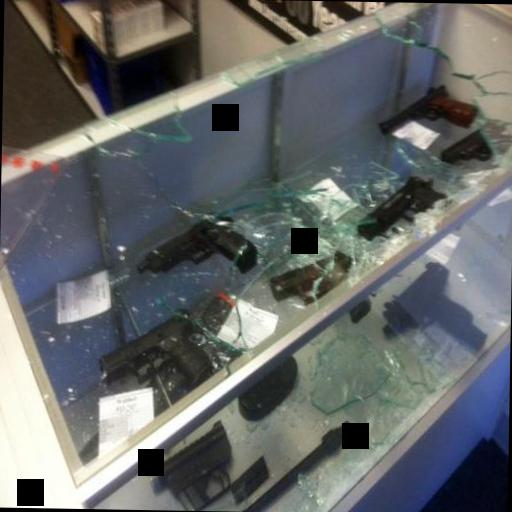Handgun: (136, 210, 258, 284), (93, 311, 212, 384), (371, 79, 482, 135), (274, 245, 363, 307), (348, 174, 448, 228), (431, 126, 505, 156)
